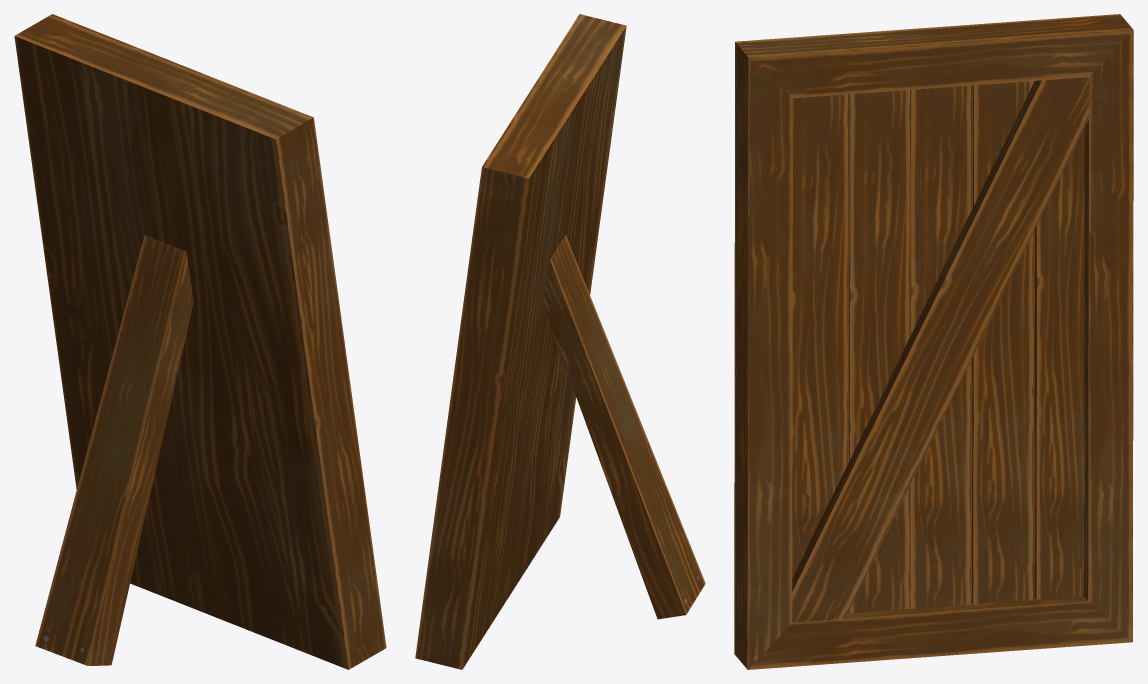
3 views of the same model, side by side, from view 1: azimuth 30°, elevation 25°; view 2: azimuth 150°, elevation 25°; view 3: azimuth 270°, elevation 25° (orthographic). The views are drawn at different scales.
Visible parts, largest first — view 1: Cube.1845; view 2: Cube.1845; view 3: Cube.1845.
Boxes of the visible parts, x1,y1,x2,y2 form: Cube.1845: (14,14,386,669); Cube.1845: (415,14,705,669); Cube.1845: (734,14,1133,669).
Bounding box in the file's own units: 172 × 347 × 211.
1 material, 1 textured.
